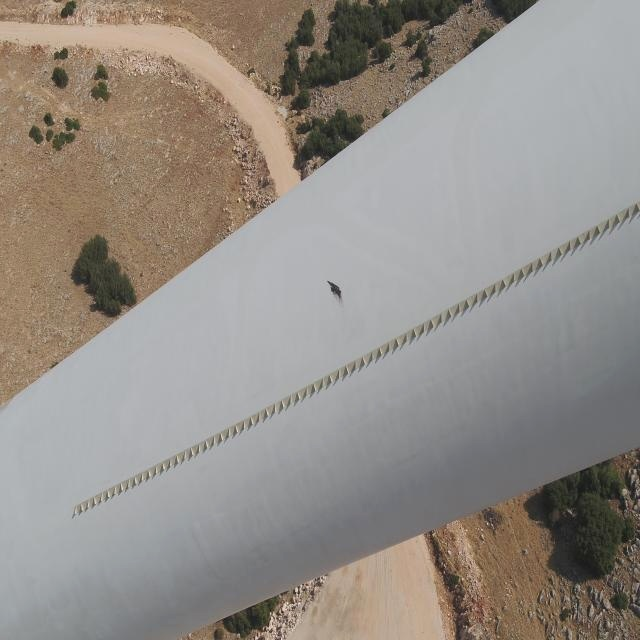Coating_defects: (322, 275, 356, 306)
